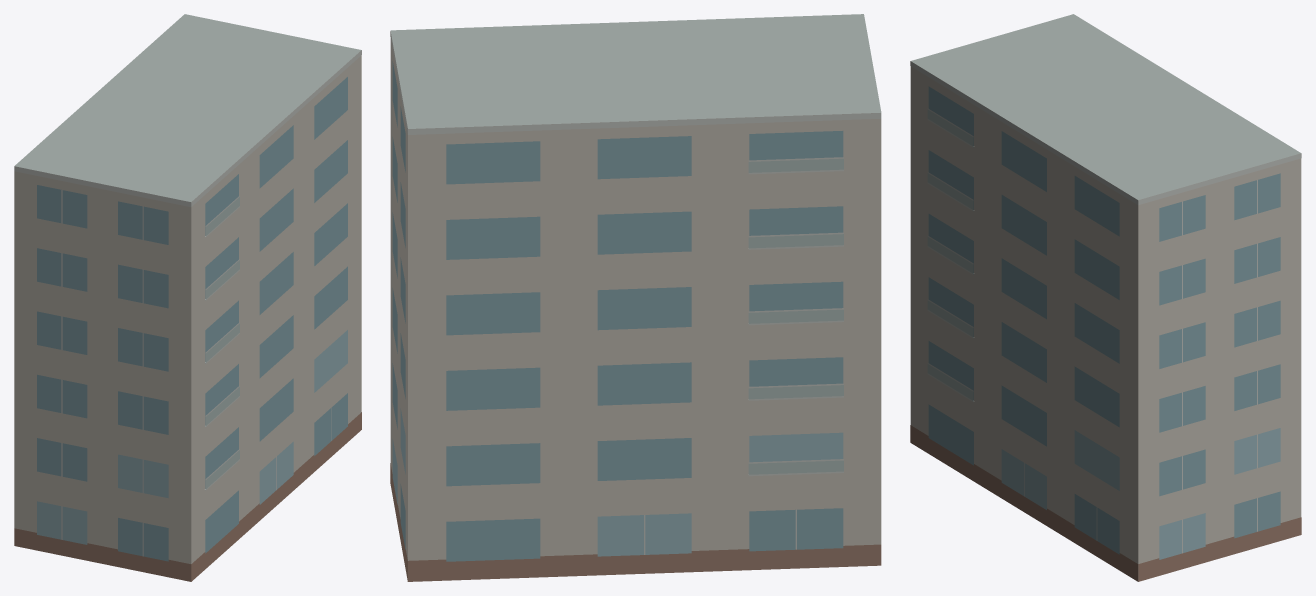
Rendered from survey-upis-32914946.glb.
The picture shows the model from 3 angles, left to right: view 1: azimuth 30°, elevation 25°; view 2: azimuth 150°, elevation 25°; view 3: azimuth 270°, elevation 25°; orthographic projection. The views are drawn at different scales.
Parts seen in each view (by area): view 1: survey-upis-32914946.tmp; view 2: survey-upis-32914946.tmp; view 3: survey-upis-32914946.tmp.
Part boxes in pixels (x1,y1,x2,y2): survey-upis-32914946.tmp: (14, 14, 361, 581); survey-upis-32914946.tmp: (390, 14, 881, 581); survey-upis-32914946.tmp: (910, 14, 1301, 581).
Size of the model in its own units: 19.15 by 18.3 by 17.
